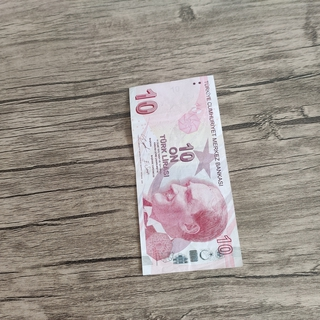10TLFront: (127, 73, 243, 276)
